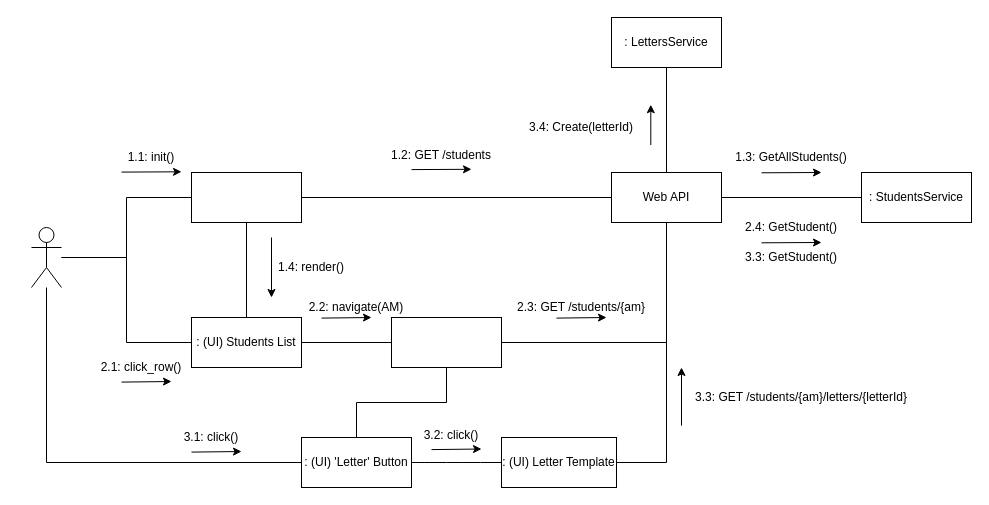
The diagram is 989 pixels wide and 505 high, and some of its shapes have lost their labels. Each missing label, with the centre of its shape:
": (UI) Home Page" belongs at (x=246, y=197).
": (UI) Student Page" belongs at (x=446, y=342).
": Professor" belongs at (x=46, y=257).
